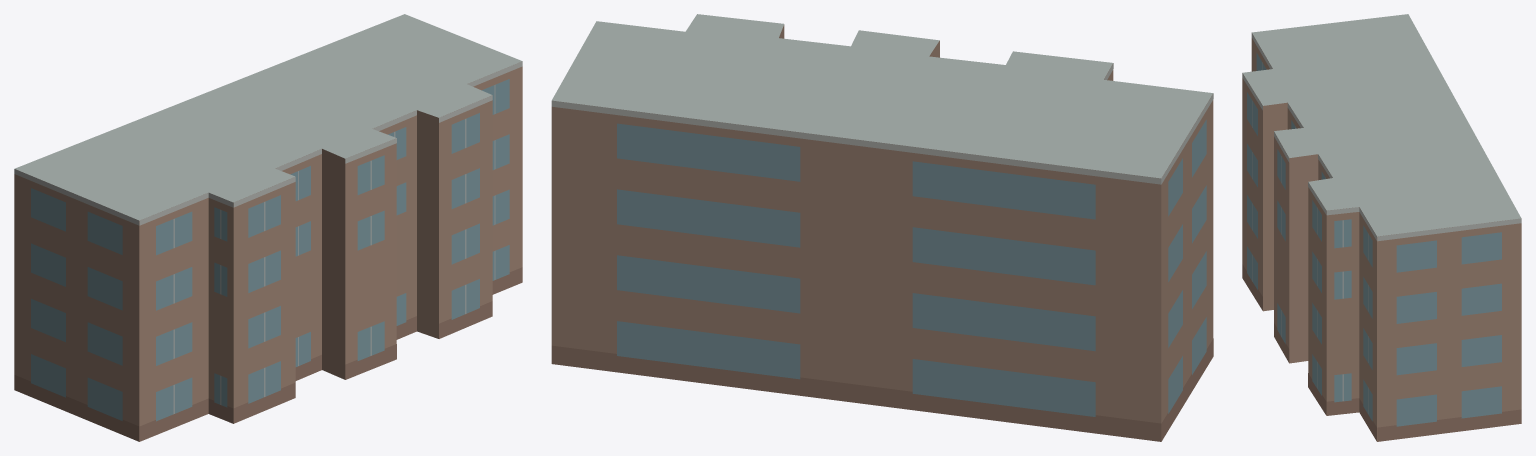
File: survey-upis-32910074.glb
3 views of the same model, side by side, from view 1: azimuth 30°, elevation 25°; view 2: azimuth 150°, elevation 25°; view 3: azimuth 270°, elevation 25° (orthographic). The views are drawn at different scales.
Parts seen in each view (by area): view 1: survey-upis-32910074.tmp; view 2: survey-upis-32910074.tmp; view 3: survey-upis-32910074.tmp.
Boxes of the visible parts, bbox=[...] form: survey-upis-32910074.tmp: bbox=[14, 14, 522, 441]; survey-upis-32910074.tmp: bbox=[551, 14, 1213, 441]; survey-upis-32910074.tmp: bbox=[1242, 14, 1521, 441].
Bounding box in the file's own units: 24.3 × 10.45 × 12.88.
